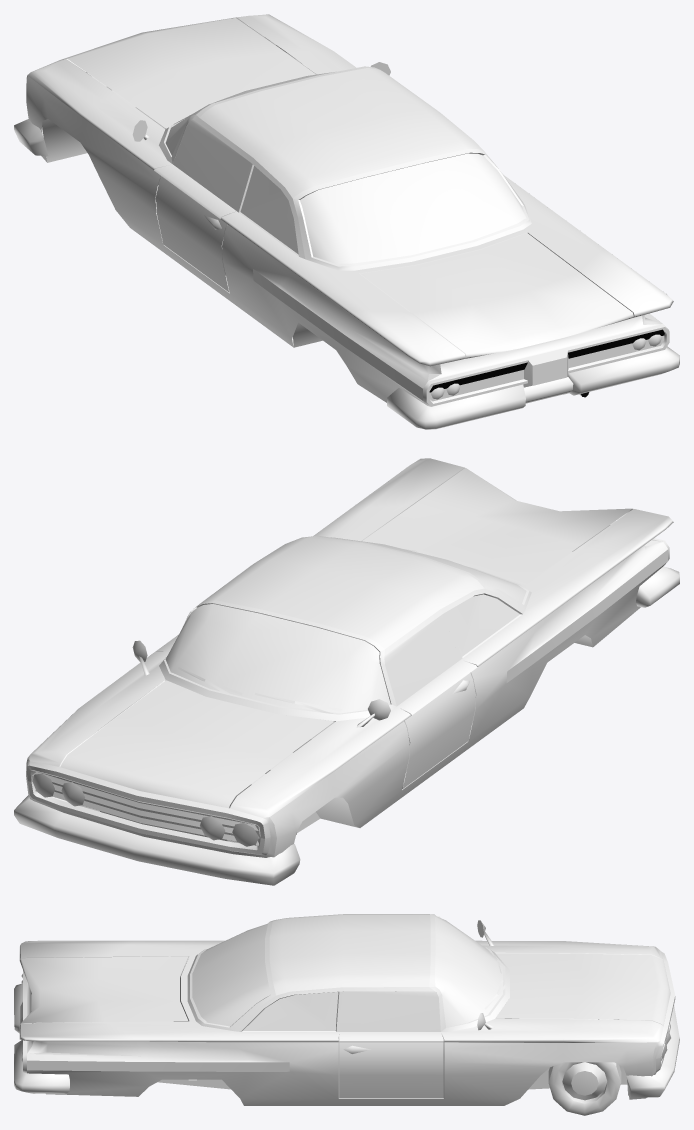
File: voodoo.glb
3 renders of one model, top to bottom at view 1: azimuth 30°, elevation 25°; view 2: azimuth 150°, elevation 25°; view 3: azimuth 270°, elevation 25°, orthographic. The views are drawn at different scales.
Parts seen in each view (by area): view 1: chassis, boot_ok, bonnet_ok, door_lf_ok, bump_rear_ok, bump_front_ok, windscreen_ok, plate_rear; view 2: chassis, bonnet_ok, windscreen_ok, boot_ok, door_lf_ok, bump_front_ok, bump_rear_ok; view 3: chassis, door_rf_ok, bonnet_ok, boot_ok, windscreen_ok, wheel, bump_rear_ok, bump_front_ok.
Boxes of the visible parts, x1,y1,x2,y2 form: chassis: (26,14,673,406); boot_ok: (360,233,633,358); bonnet_ok: (62,18,315,128); door_lf_ok: (154,119,250,292); bump_rear_ok: (387,346,679,429); bump_front_ok: (14,119,48,155); windscreen_ok: (165,72,334,155); plate_rear: (533,357,566,385); chassis: (26,458,673,857); bonnet_ok: (60,680,333,807); windscreen_ok: (165,604,390,713); boot_ok: (362,468,632,582); door_lf_ok: (384,614,477,788); bump_front_ok: (14,795,300,885); bump_rear_ok: (636,566,679,607); chassis: (19,914,675,1105); door_rf_ok: (339,991,443,1097); bonnet_ok: (496,953,670,1025); boot_ok: (19,956,188,1024); windscreen_ok: (435,916,502,1027); wheel: (548,1062,621,1115); bump_rear_ok: (14,983,69,1093); bump_front_ok: (626,1005,679,1097).
Bounding box in the file's own units: 2.39 × 1.35 × 6.41.
Materials: 20 (17 with a texture image).
